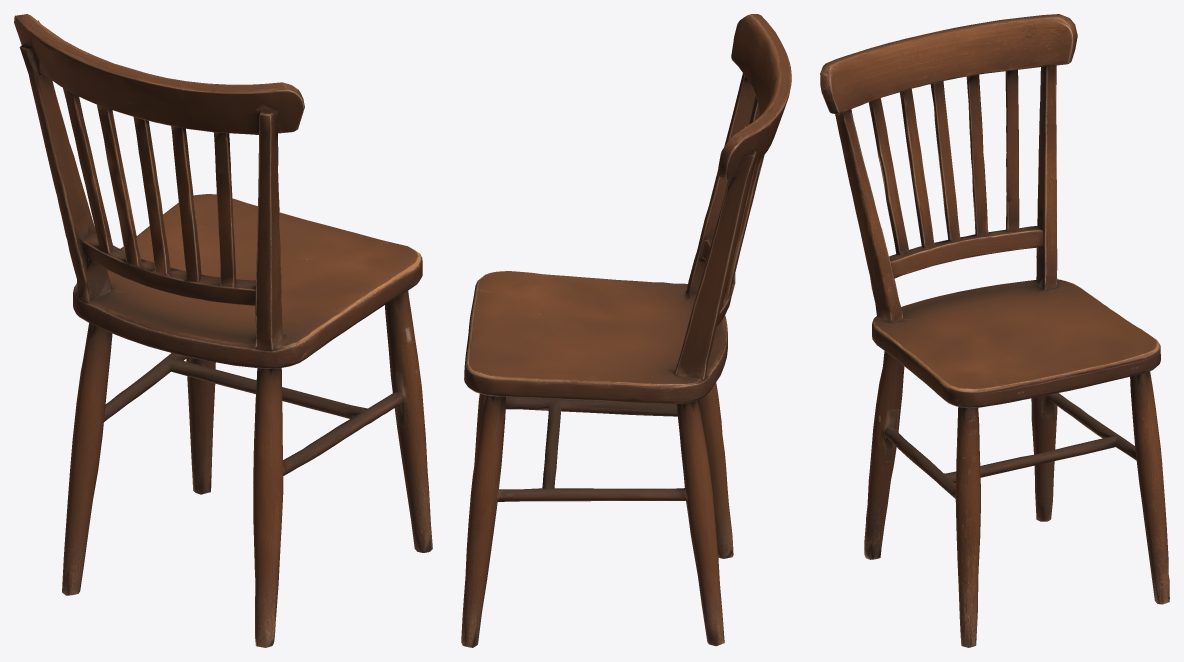
Rendered from sedia.glb.
The picture shows the model from 3 angles, left to right: view 1: azimuth 30°, elevation 25°; view 2: azimuth 150°, elevation 25°; view 3: azimuth 270°, elevation 25°; orthographic projection. The views are drawn at different scales.
Parts seen in each view (by area): view 1: tripo_node_04243442-ade8-470c-8e17-85eb33d13321; view 2: tripo_node_04243442-ade8-470c-8e17-85eb33d13321; view 3: tripo_node_04243442-ade8-470c-8e17-85eb33d13321.
Part boxes in pixels (x1,y1,x2,y2): tripo_node_04243442-ade8-470c-8e17-85eb33d13321: (14,14,432,647); tripo_node_04243442-ade8-470c-8e17-85eb33d13321: (461,14,791,647); tripo_node_04243442-ade8-470c-8e17-85eb33d13321: (820,14,1169,647).
Bounding box in the file's own units: 0.5894 × 0.9 × 0.5829.
Materials: 1 (1 with a texture image).
